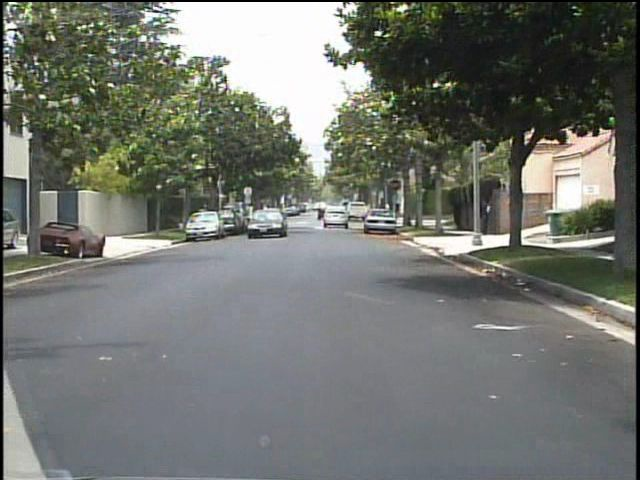person: (481, 192, 494, 237), (195, 202, 211, 232)
